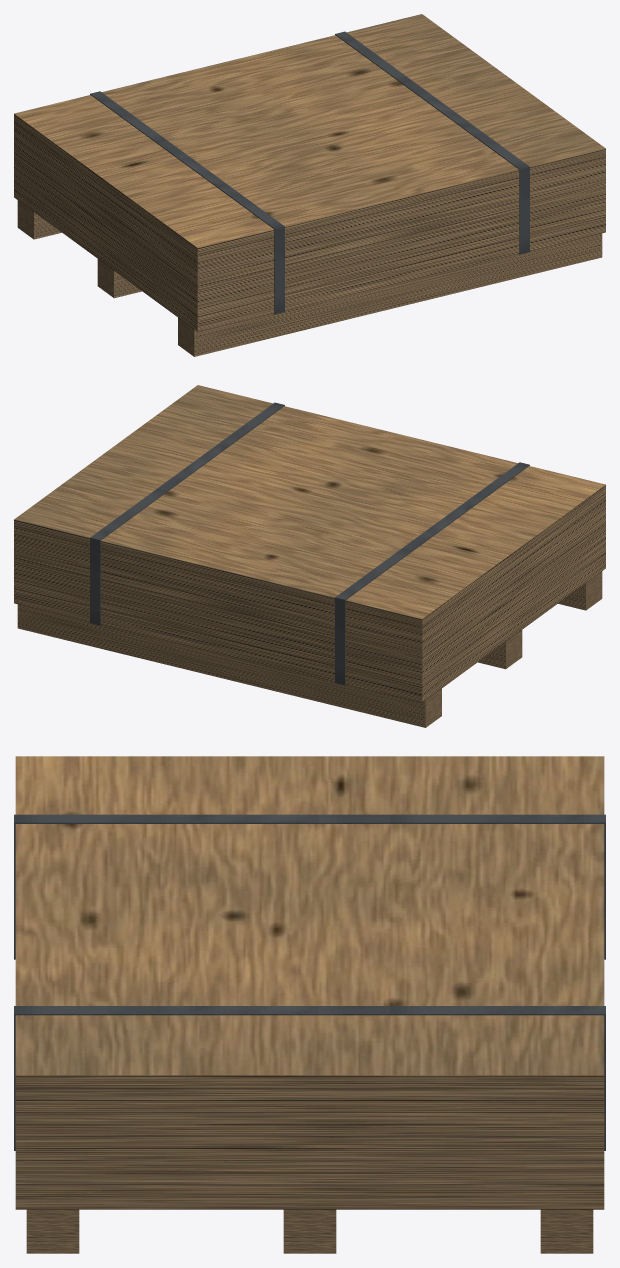
Rendered from compensato.glb.
The picture shows the model from 3 angles, top to bottom: view 1: azimuth 30°, elevation 25°; view 2: azimuth 150°, elevation 25°; view 3: azimuth 270°, elevation 25°; orthographic projection. The views are drawn at different scales.
Visible parts, largest first — view 1: plywood, strap; view 2: plywood, strap; view 3: plywood, strap.
Part boxes in pixels (x1=…): plywood: x1=14, y1=14, x2=605, y2=356; strap: x1=90, y1=31, x2=529, y2=314; plywood: x1=14, y1=385, x2=605, y2=727; strap: x1=90, y1=402, x2=529, y2=685; plywood: x1=15, y1=756, x2=604, y2=1253; strap: x1=14, y1=814, x2=605, y2=1150.
Size of the model in its own units: 2.01 by 0.528 by 1.58.
Materials: 2 (2 with a texture image).
